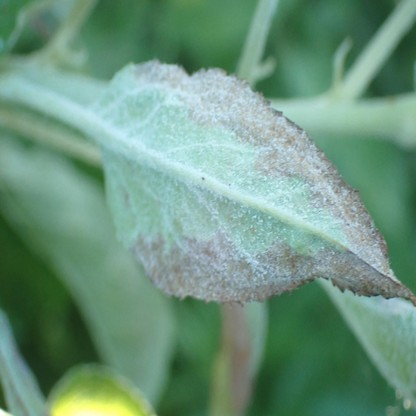powdery_mildew: (95, 57, 416, 300), (347, 290, 416, 405)
